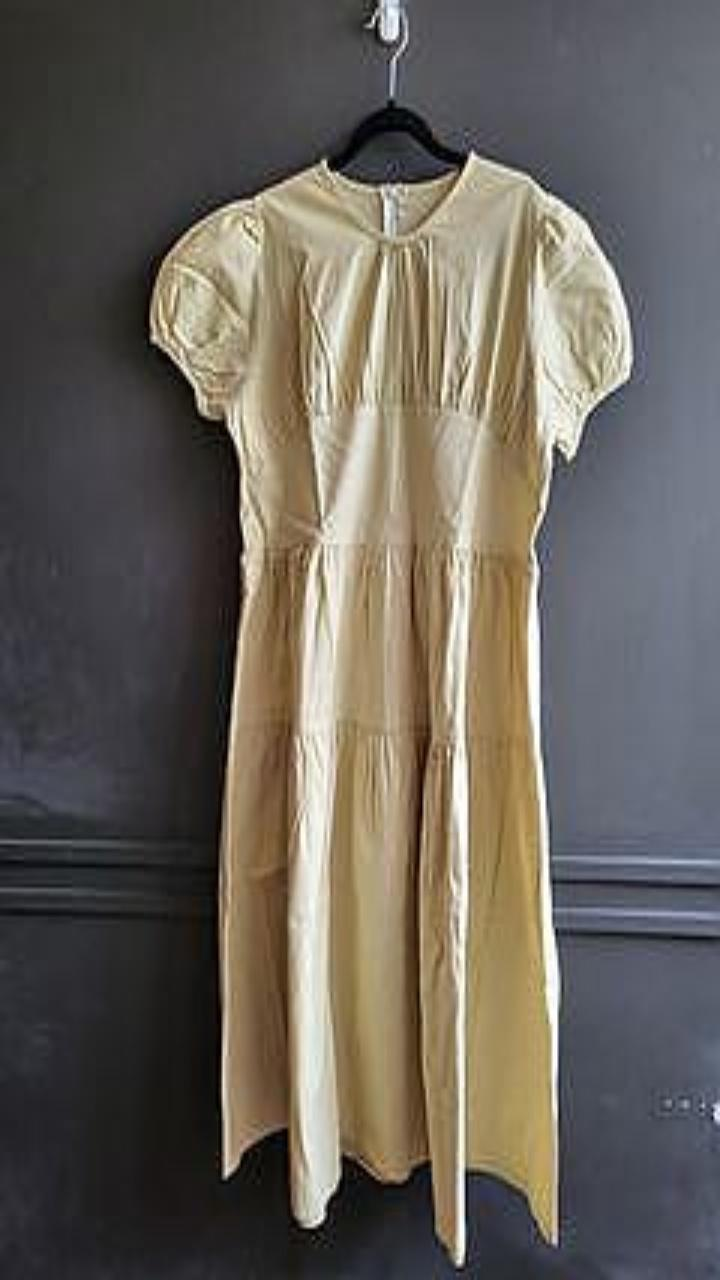Dresses: (150, 151, 631, 1265)
